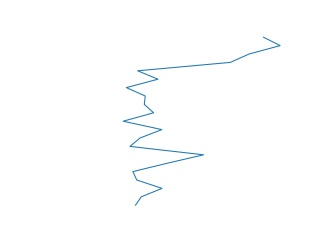crevasseRiverChannelBar: (120, 33, 285, 208)
